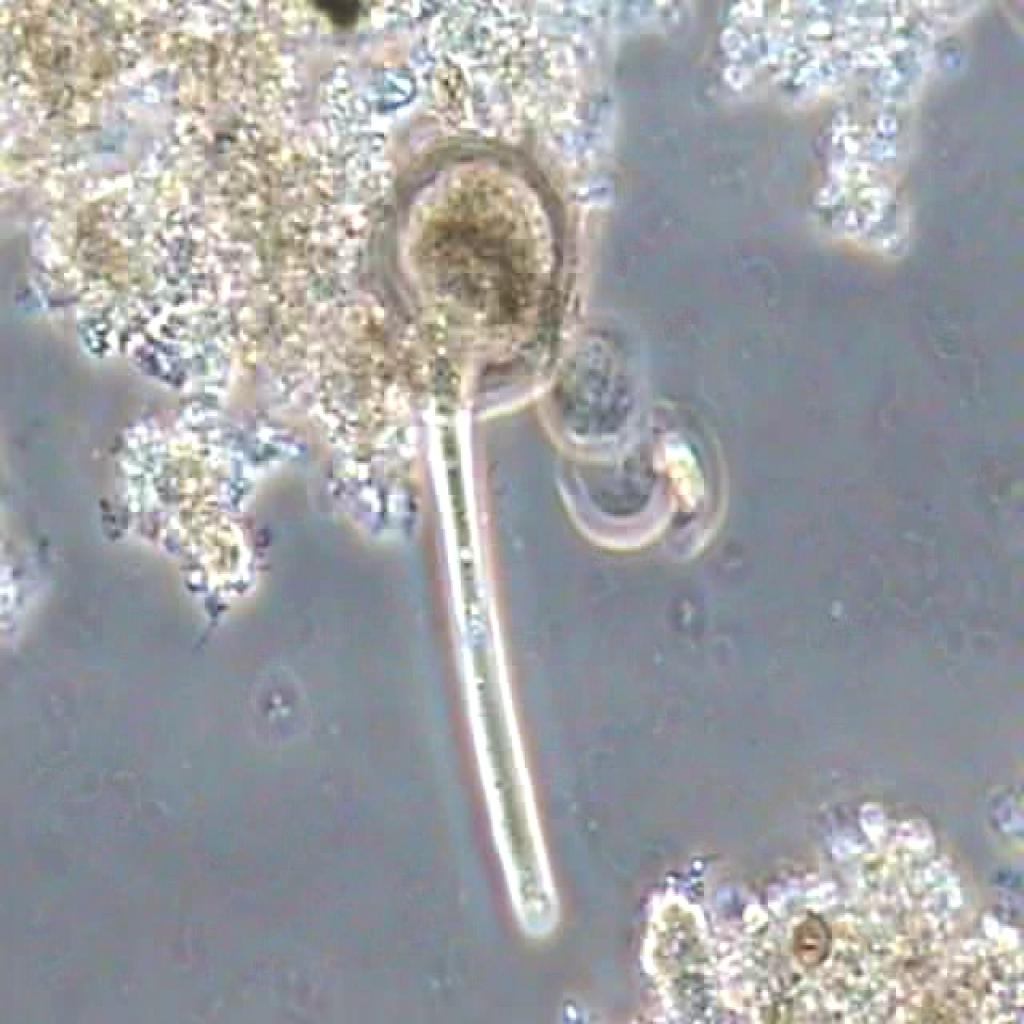Arcella: (359, 128, 598, 945)
